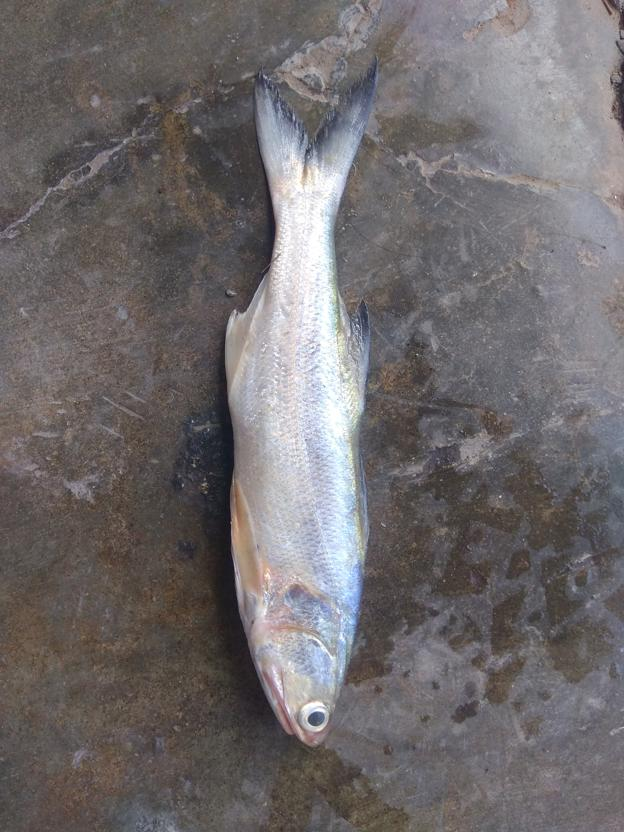Fish head: (235, 584, 365, 750)
Fish tail: (256, 55, 382, 219)
